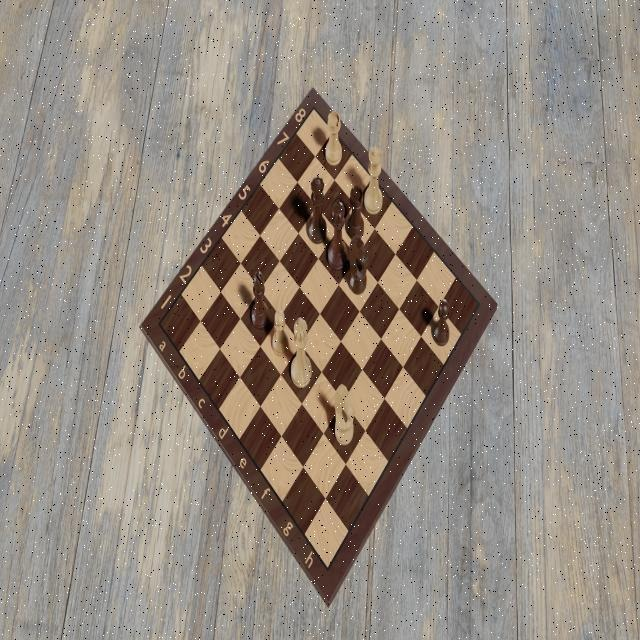black-bishop: (248, 269, 271, 330), (348, 184, 368, 239)
black-knight: (348, 235, 370, 297)
black-pawn: (431, 295, 453, 350)
black-queen: (306, 169, 329, 244)
white-king: (287, 314, 314, 394), (327, 197, 349, 271)
white-knight: (332, 380, 355, 451)
white-pawn: (270, 303, 290, 361)
white-queen: (363, 142, 385, 222)
white-rook: (323, 108, 343, 168)
